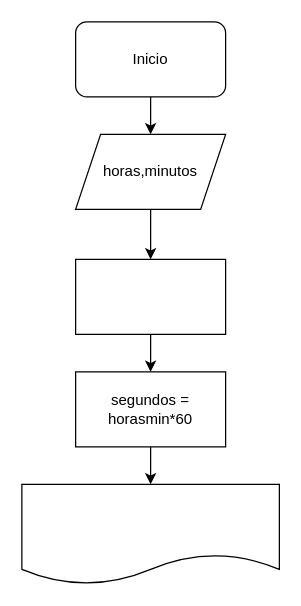
Image size: 301x606. Some labels were removed from this diagram. Each missing label, with the box of its shape:
horas,minutos,segundos: (21, 483, 279, 584)
horasmin = (horas*60) + minutos: (74, 258, 226, 334)
